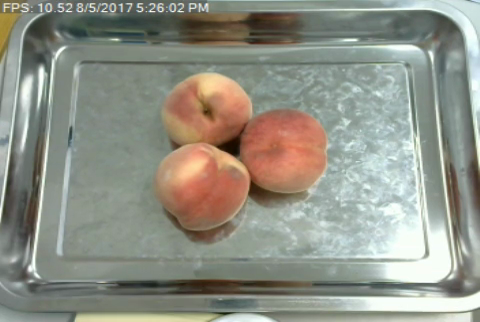Peach: (155, 142, 249, 231), (240, 107, 328, 193), (160, 70, 252, 149)
